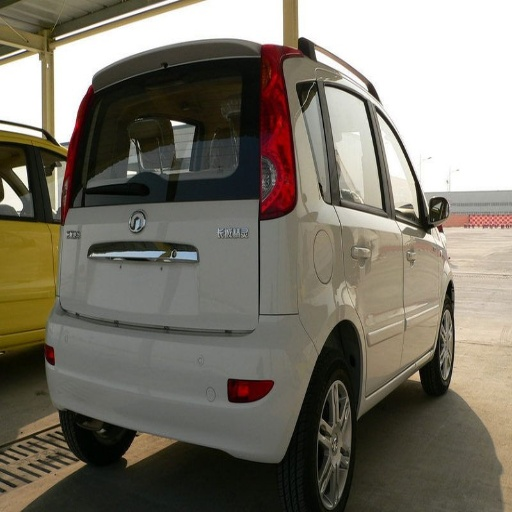back_bumper: (45, 314, 318, 459)
back_right_door: (301, 72, 401, 392)
tailgate: (122, 289, 256, 333)
trunk: (63, 186, 268, 328)
